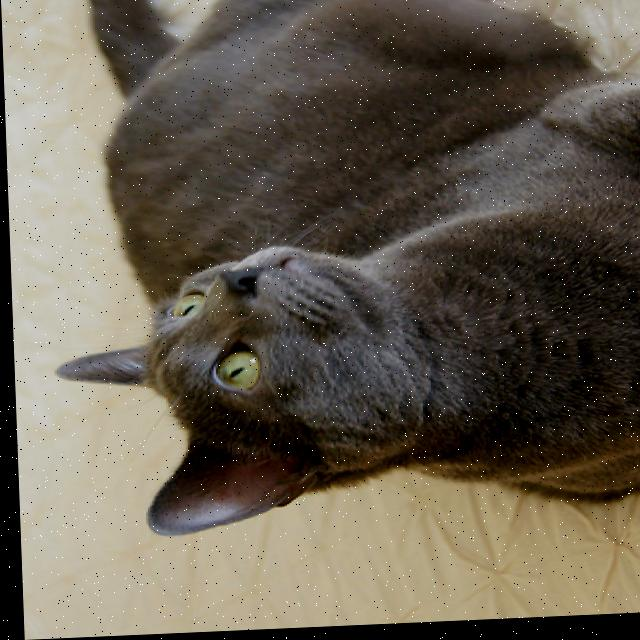Russian Blue: (31, 0, 640, 547)
